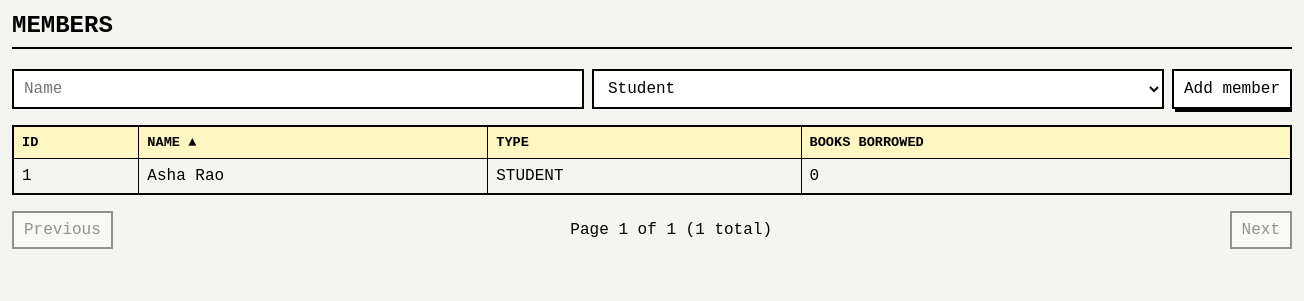
MembersPage › lets an admin add a member and reloads the list
The width and height of the screenshot is (1304, 301).
Expected: the text "Asha Rao" is shown, [139,158,488,194]
Type "Ravi Kumar" into the field labelled "Name". click: (298, 89)
box: [12,69,584,109]
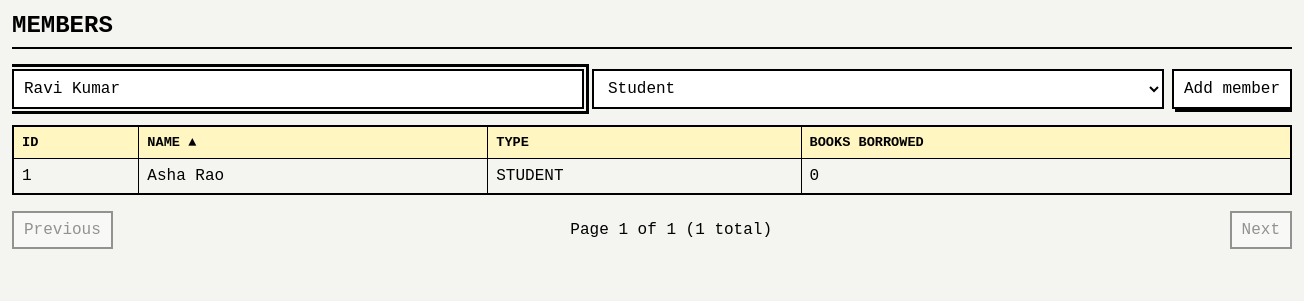
Click the button "Add member". click: (1232, 89)
box: [1172,69,1292,109]
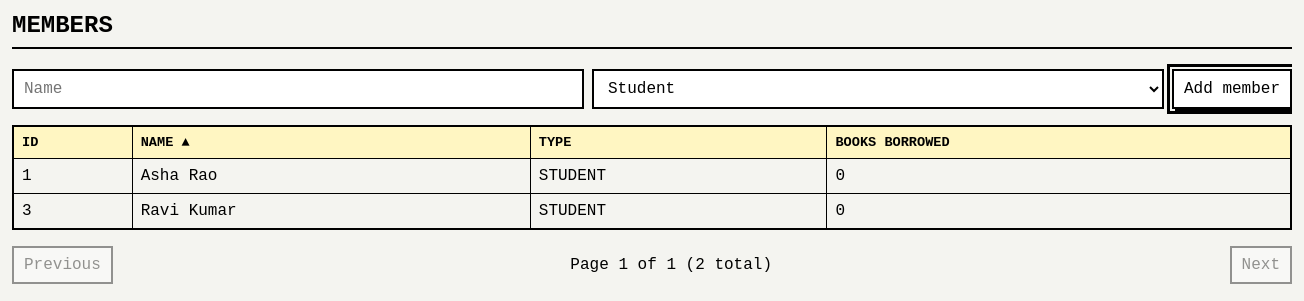
Expected: the text "Ravi Kumar" is shown, [132,193,530,229]
